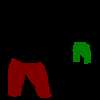bermuda: (7, 57, 52, 98), (72, 42, 91, 64)
